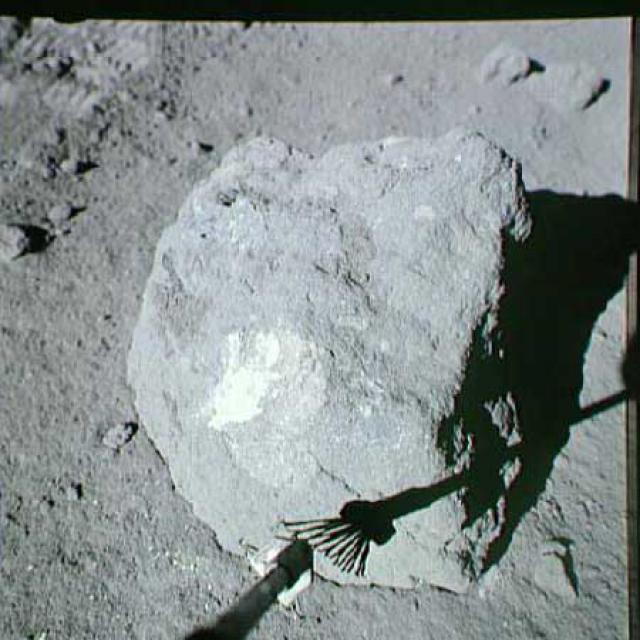artifact: (172, 516, 325, 639)
rock: (125, 118, 558, 599), (544, 61, 610, 115), (480, 39, 537, 92), (2, 217, 39, 261)
